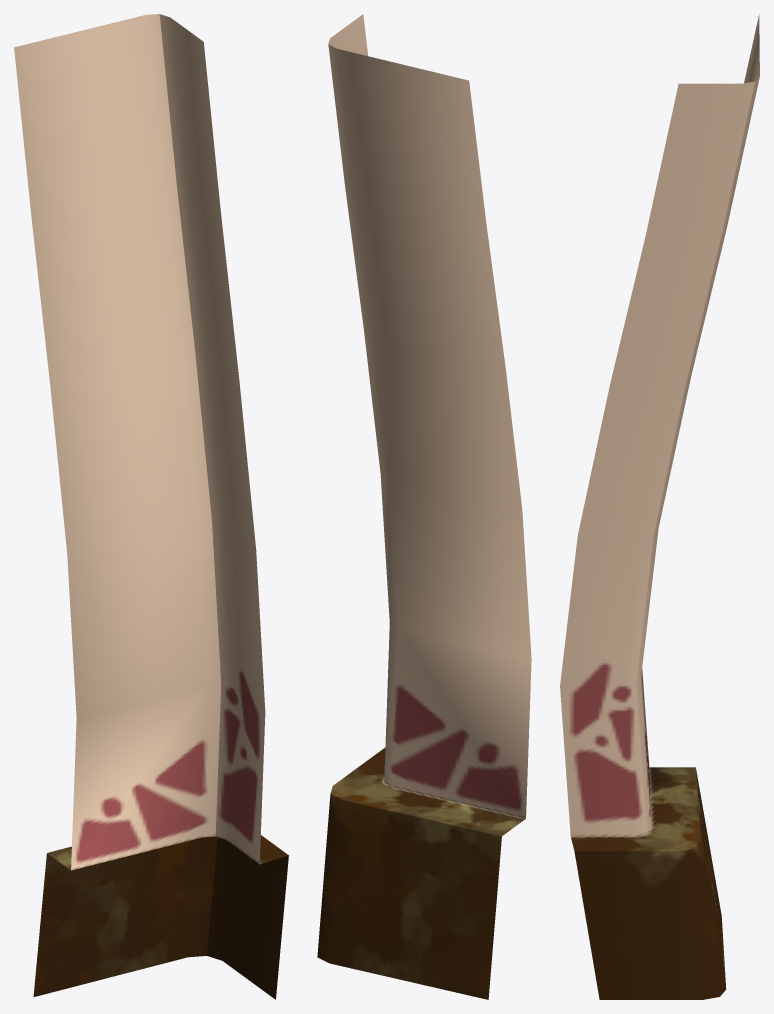
Rendered from pared columna curva.fbx.
The picture shows the model from 3 angles, left to right: view 1: azimuth 30°, elevation 25°; view 2: azimuth 150°, elevation 25°; view 3: azimuth 270°, elevation 25°; orthographic projection. The views are drawn at different scales.
Visible parts, largest first — view 1: Cube.122; view 2: Cube.122; view 3: Cube.122.
Boxes of the visible parts, x1,y1,x2,y2 form: Cube.122: (14,14,288,999); Cube.122: (317,14,531,999); Cube.122: (560,14,759,999).
Size of the model in its own units: 71.97 by 359 by 72.24.
